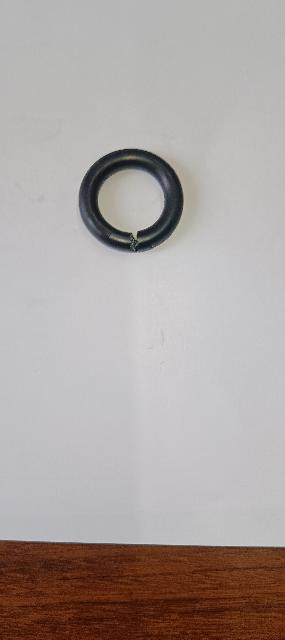crack: (130, 231, 139, 252)
scratch: (107, 227, 115, 240)
